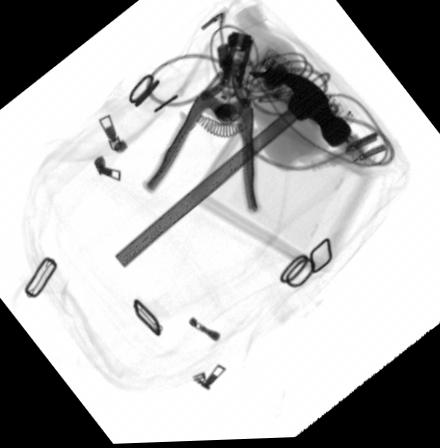Hammer: (115, 73, 352, 268)
Pliers: (142, 31, 258, 214)
